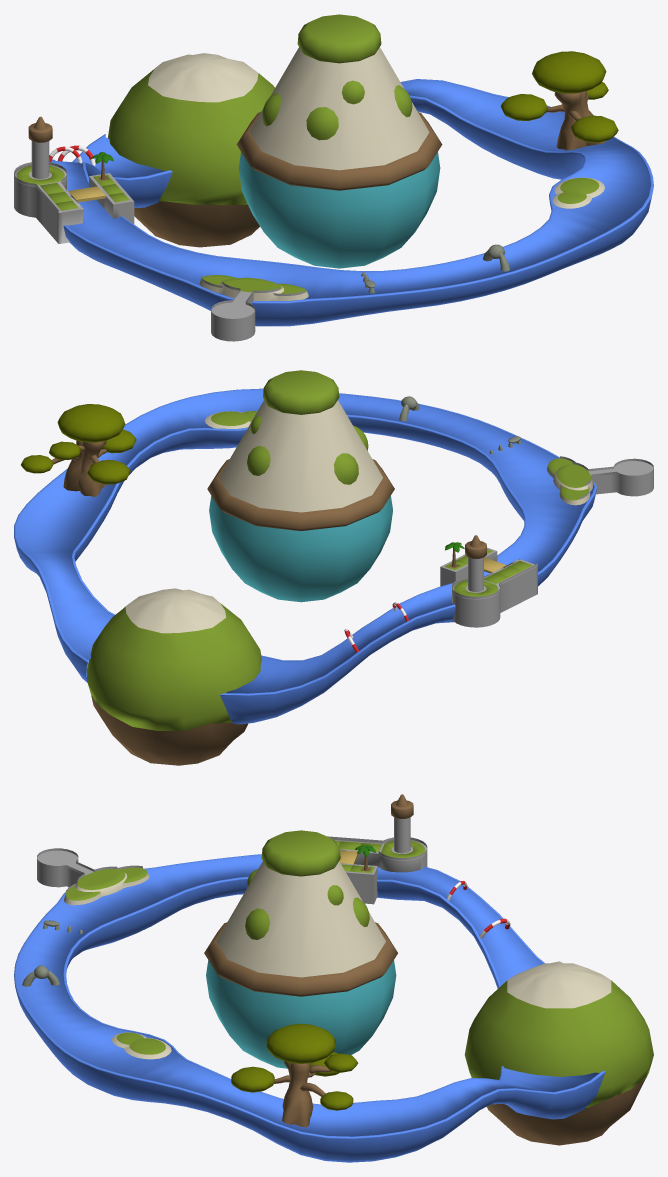
File: SeaSlide.obj
3 renders of one model, top to bottom at view 1: azimuth 30°, elevation 25°; view 2: azimuth 150°, elevation 25°; view 3: azimuth 270°, elevation 25°, orthographic. The views are drawn at different scales.
Parts seen in each view (by area): view 1: m18, m28, m27, m15, m26, m25, m21, m16, m17, m8, m12, m22 (+9 smaller); view 2: m18, m15, m28, m27, m21, m26, m16, m25, m17, m8, m12, m22 (+3 smaller); view 3: m18, m15, m28, m27, m21, m26, m25, m16, m17, m22, m12, m8 (+6 smaller).
Part boxes in pixels (x1=…): m18: x1=49, y1=79, x2=653, y2=326; m28: x1=249, y1=47, x2=429, y2=170; m27: x1=238, y1=152, x2=440, y2=268; m15: x1=108, y1=66, x2=274, y2=204; m26: x1=262, y1=14, x2=412, y2=140; m25: x1=236, y1=112, x2=442, y2=190; m21: x1=500, y1=51, x2=618, y2=142; m16: x1=134, y1=201, x2=259, y2=247; m17: x1=148, y1=53, x2=258, y2=102; m8: x1=14, y1=164, x2=83, y2=243; m12: x1=211, y1=291, x2=255, y2=341; m22: x1=546, y1=91, x2=605, y2=150; m18: x1=14, y1=388, x2=596, y2=724; m15: x1=86, y1=603, x2=261, y2=730; m28: x1=219, y1=400, x2=382, y2=512; m27: x1=209, y1=496, x2=392, y2=602; m21: x1=21, y1=404, x2=136, y2=484; m26: x1=247, y1=370, x2=368, y2=484; m16: x1=91, y1=695, x2=247, y2=765; m25: x1=207, y1=459, x2=394, y2=530; m17: x1=125, y1=588, x2=225, y2=633; m8: x1=452, y1=559, x2=537, y2=627; m12: x1=588, y1=461, x2=653, y2=496; m22: x1=52, y1=440, x2=107, y2=496; m18: x1=14, y1=854, x2=605, y2=1162; m15: x1=464, y1=980, x2=653, y2=1107; m28: x1=216, y1=861, x2=385, y2=977; m27: x1=206, y1=960, x2=396, y2=1068; m21: x1=231, y1=1023, x2=358, y2=1110; m26: x1=245, y1=830, x2=369, y2=939; m25: x1=204, y1=922, x2=397, y2=996; m16: x1=487, y1=1074, x2=647, y2=1145; m17: x1=507, y1=961, x2=611, y2=1008; m22: x1=274, y1=1061, x2=331, y2=1127; m12: x1=37, y1=850, x2=93, y2=887; m8: x1=333, y1=839, x2=427, y2=872.
Bounding box in the file's own units: 72.27 × 38.47 × 76.32.
